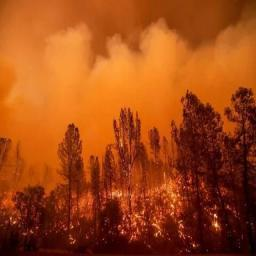Heavy smoke: (3, 1, 255, 152)
Medium fire: (3, 173, 241, 248)
